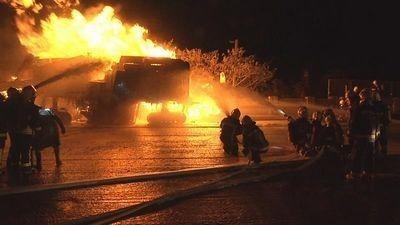fire: (11, 1, 185, 70), (131, 88, 222, 127)
